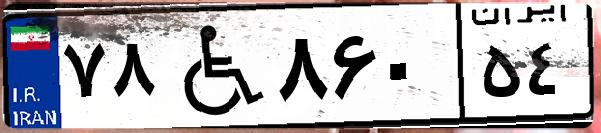0: (385, 28, 445, 110)
4: (525, 38, 570, 115)
5: (475, 38, 525, 113)
6: (330, 28, 385, 110)
7: (57, 26, 110, 100)
8: (270, 28, 330, 110), (110, 28, 158, 98)
ژ (معلولین و جانبازان): (158, 12, 270, 120)
